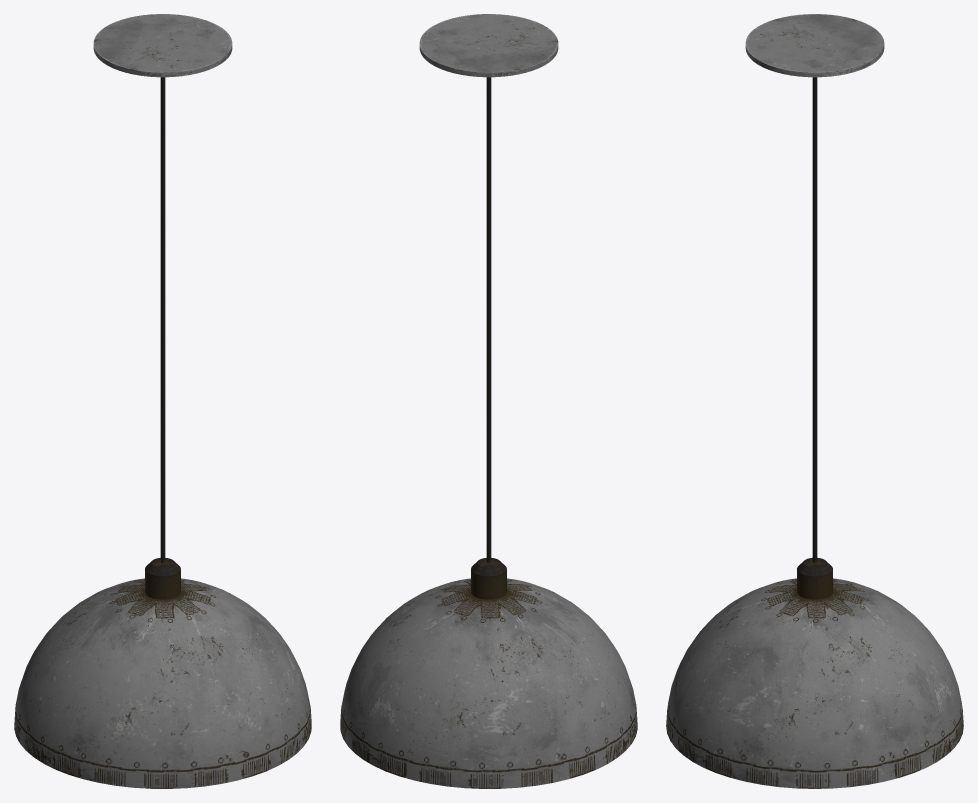
File: Cieling Light.glb
3 views of the same model, side by side, from view 1: azimuth 30°, elevation 25°; view 2: azimuth 150°, elevation 25°; view 3: azimuth 270°, elevation 25° (orthographic).
Parts seen in each view (by area): view 1: Object_2; view 2: Object_2; view 3: Object_2.
Part boxes in pixels (bbox=[...]): Object_2: bbox=[14, 14, 311, 788]; Object_2: bbox=[340, 14, 637, 788]; Object_2: bbox=[666, 14, 963, 788].
Size of the model in its own units: 20 by 50.59 by 20.
Materials: 2 (1 with a texture image).
